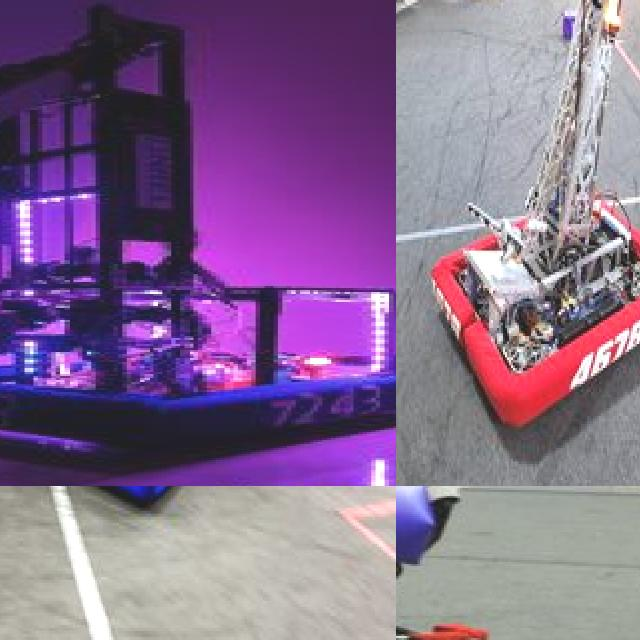FRC-Robots: (0, 0, 396, 486), (427, 0, 640, 444), (396, 486, 537, 640), (0, 486, 248, 567)
